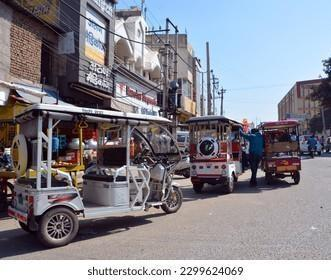keke: (2, 99, 184, 250), (252, 119, 302, 190)
